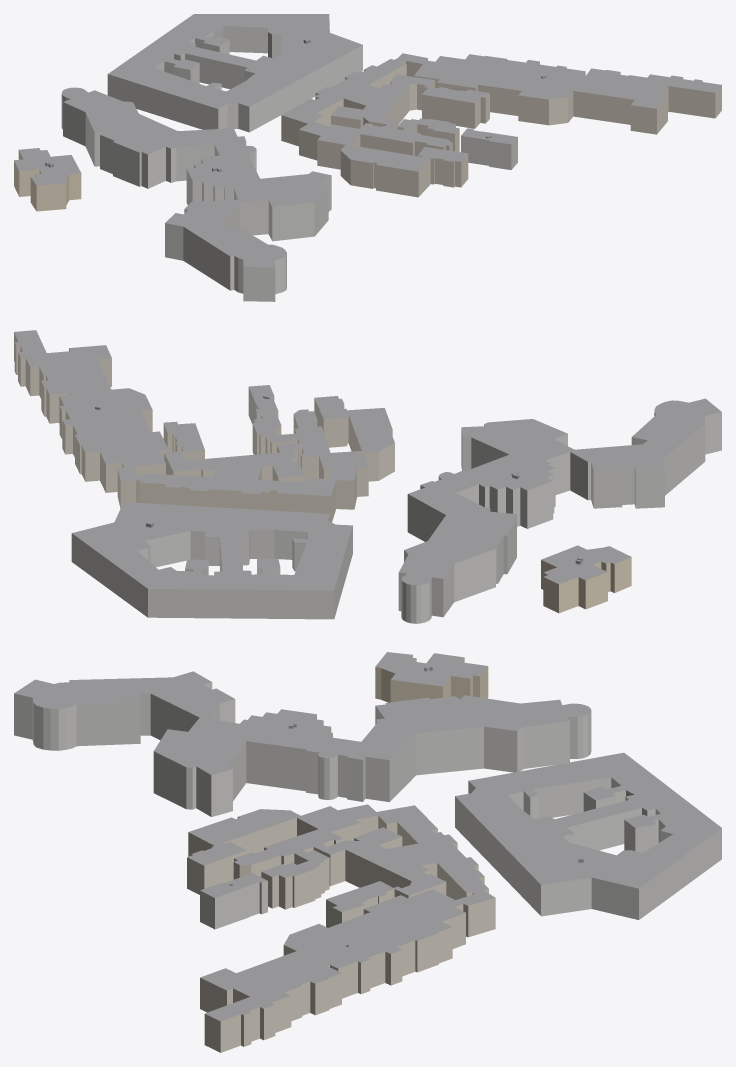
Rendered from building_-1_2.glb.
3 views of the same model, one above another, from view 1: azimuth 30°, elevation 25°; view 2: azimuth 150°, elevation 25°; view 3: azimuth 270°, elevation 25° (orthographic). The views are drawn at different scales.
Visible parts, largest first — view 1: roof, concrete_light, concrete_warm, sandstone; view 2: roof, concrete_light, concrete_warm, sandstone; view 3: roof, concrete_light, concrete_warm, sandstone.
Boxes of the visible parts, box(x1,y1,x2,y2) form: roof: box(14, 14, 721, 267); concrete_light: box(61, 26, 517, 301); concrete_warm: box(281, 58, 721, 197); sandstone: box(14, 150, 81, 211); roof: box(14, 330, 721, 590); concrete_light: box(71, 387, 721, 623); concrete_warm: box(14, 332, 394, 522); sandstone: box(541, 557, 631, 613); roof: box(14, 652, 721, 1021); concrete_light: box(14, 682, 721, 929); concrete_warm: box(187, 815, 495, 1052); sandstone: box(375, 655, 488, 702).
Bounding box in the file's own units: 377 × 21.47 × 306.
